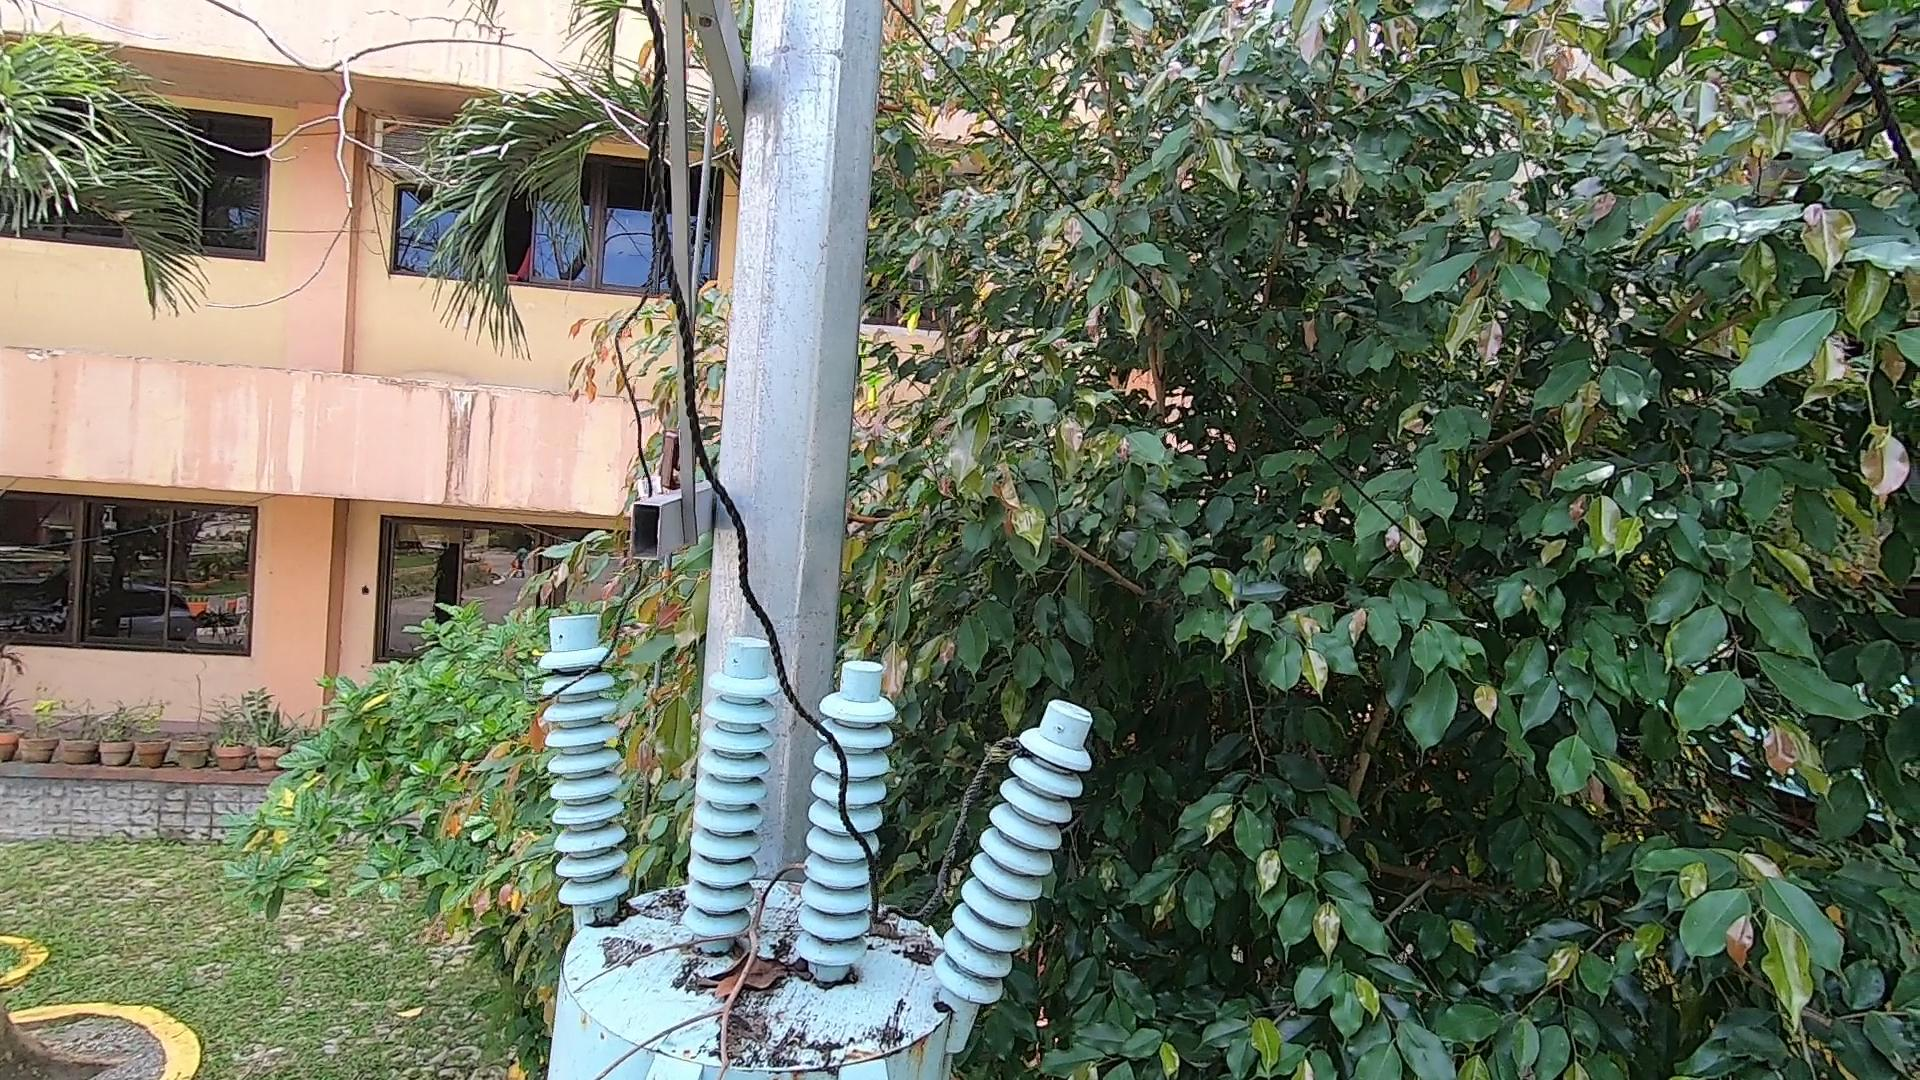leaf: (684, 943, 810, 1004), (870, 909, 934, 975), (582, 893, 642, 934)
tree branch: (570, 823, 804, 1080)
